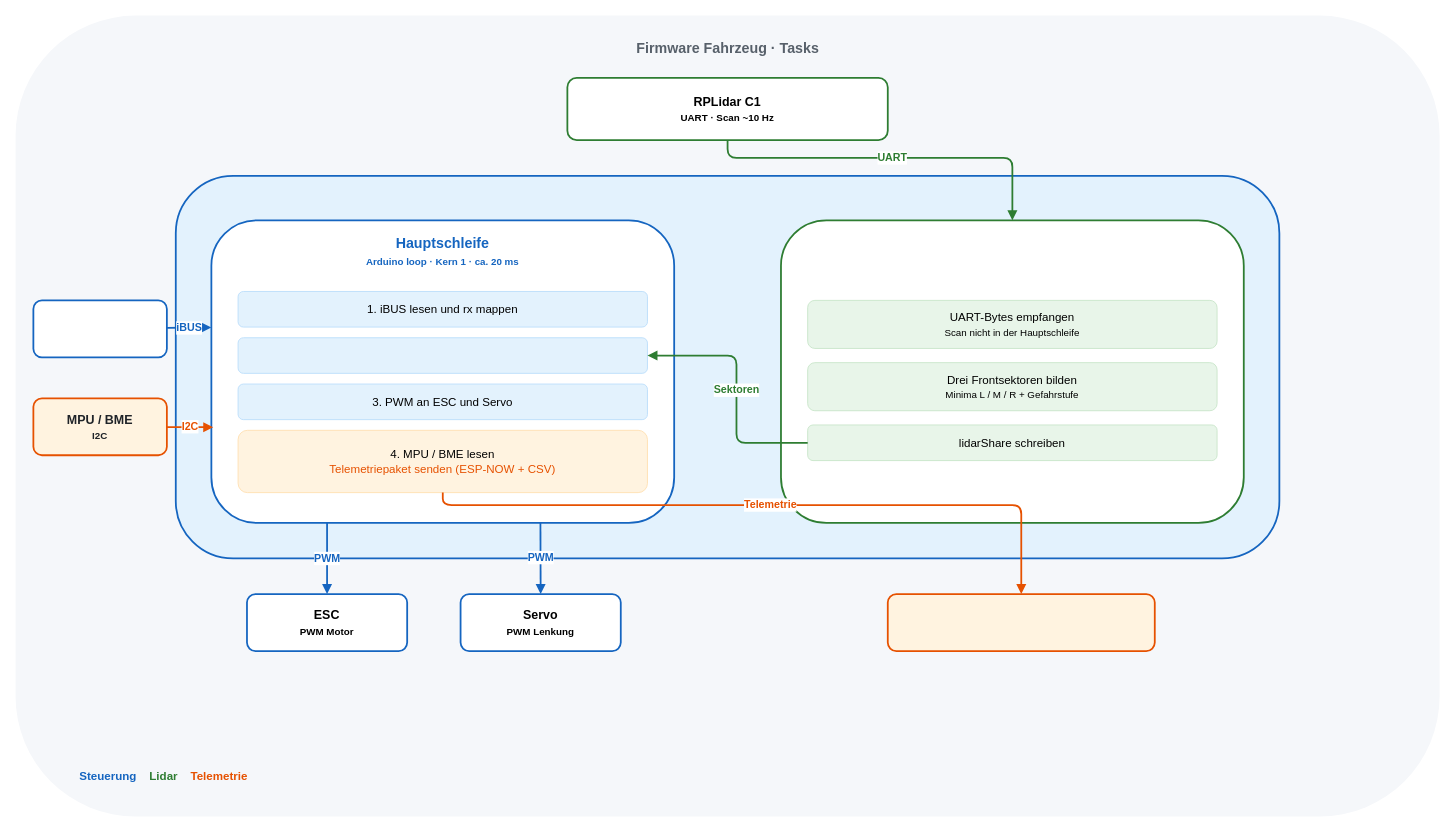
Some shapes in this 1454 by 831 pixel diagram are drawn without their labels. Here are the shapes that lost their labels. From the top down, the box of each, then its label:
(32, 299, 167, 358): iBUS FS-iA6B
(237, 337, 647, 373): 2. Assistenz: danger_used → cmd_gas
(174, 174, 1280, 559): ESP32 NodeMCU · firmware_RC_Car
(780, 219, 1244, 523): Lidar-Task FreeRTOS · ebenfalls Kern 1
(886, 593, 1155, 651): ESP-NOW 63 Byte an Empfänger-ESP
